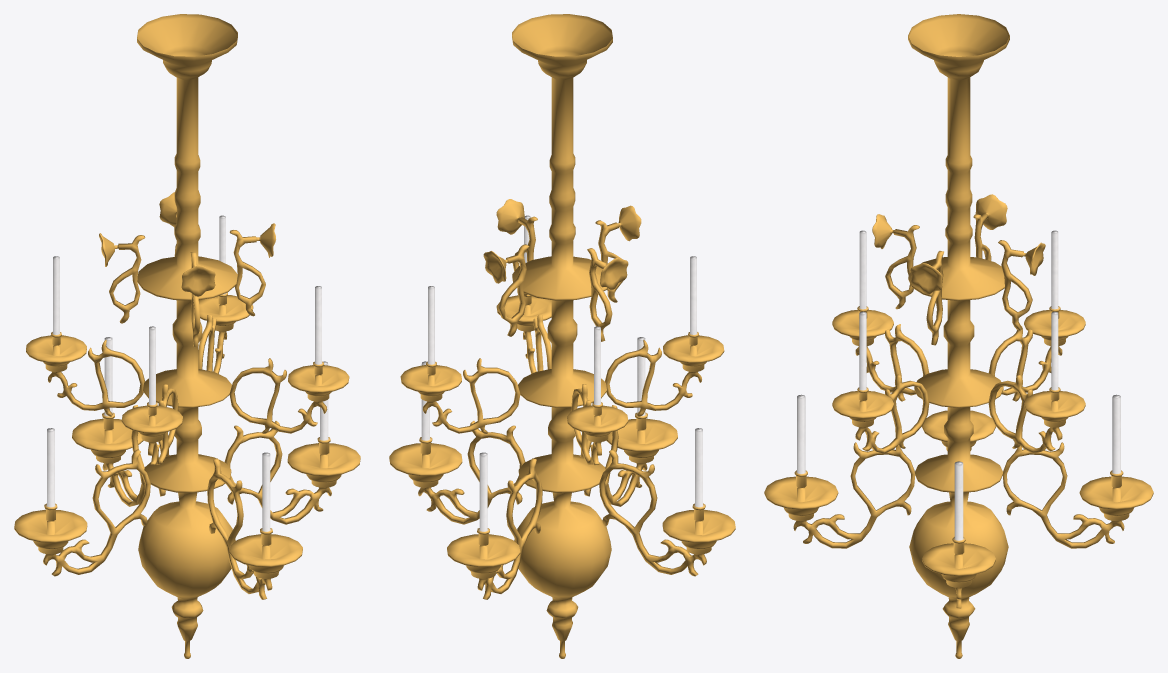
Rendered from chandelier-lowpoly-e7a99b.glb.
The picture shows the model from 3 angles, left to right: view 1: azimuth 30°, elevation 25°; view 2: azimuth 150°, elevation 25°; view 3: azimuth 270°, elevation 25°; orthographic projection.
Visible parts, largest first — view 1: PropMesh; view 2: PropMesh; view 3: PropMesh.
Part boxes in pixels (x1=…): PropMesh: x1=14, y1=14, x2=360, y2=658; PropMesh: x1=389, y1=14, x2=735, y2=658; PropMesh: x1=764, y1=14, x2=1153, y2=658.
Size of the model in its own units: 0.8487 by 1.5 by 0.8487.
1 material, 1 textured.
